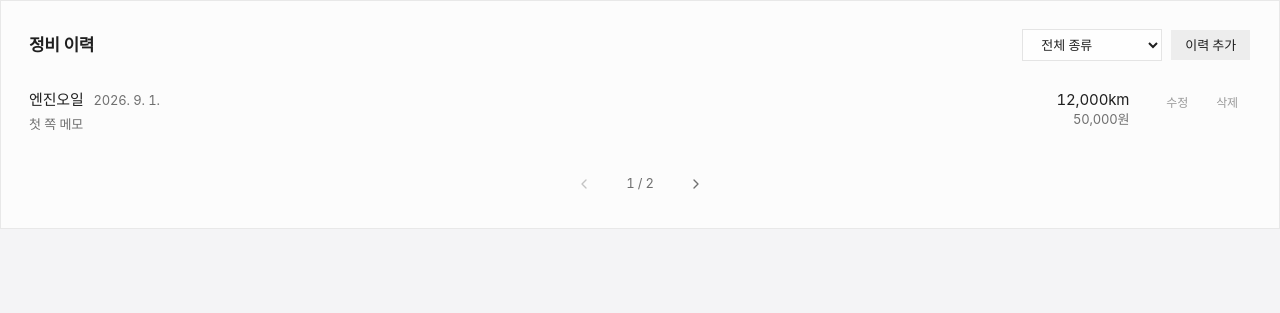
Test: MaintenanceSection › 다음 쪽 조회가 실패해도 받아 둔 쪽과 페이지 이동이 남고, 다시 누르면 그 쪽을 다시 읽는다
Expected: the text "첫 쪽 메모" is shown, left=29, top=116, right=83, bottom=132
Click the button named "다음 페이지": (696, 184) left=680, top=168, right=712, bottom=200
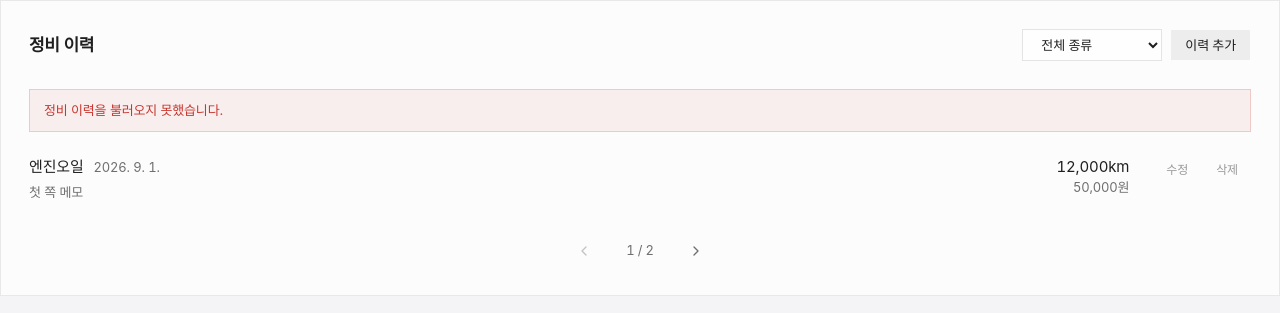
Expected: the text "첫 쪽 메모" is shown, left=29, top=184, right=83, bottom=200
Expected: the message reads "정비 이력을 불러오지 못했습니다.", left=44, top=102, right=223, bottom=118
Expected: the message "정비 이력을 불러오지 못했습니다." is shown, left=29, top=89, right=1251, bottom=132
Click the button named "다음 페이지": (696, 251) left=680, top=235, right=712, bottom=267
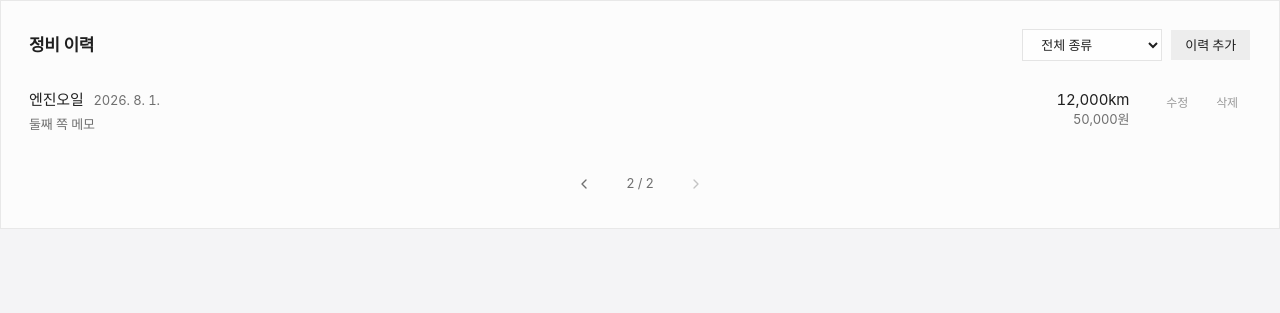
Expected: the text "둘째 쪽 메모" is shown, left=29, top=116, right=95, bottom=132
Expected: the message "정비 이력을 불러오지 못했습니다." is gone
